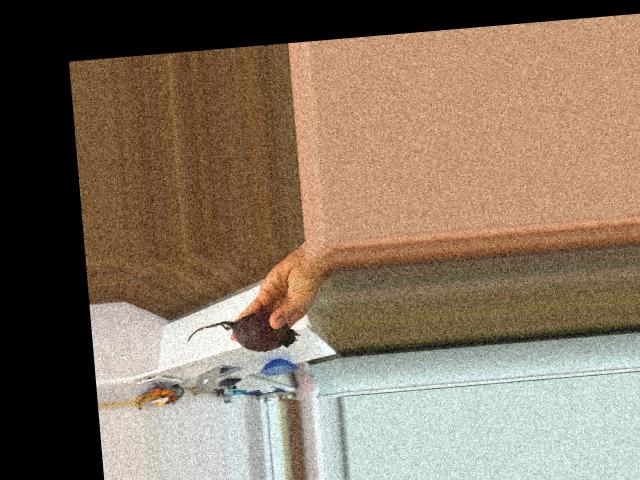beet: (185, 309, 299, 357)
